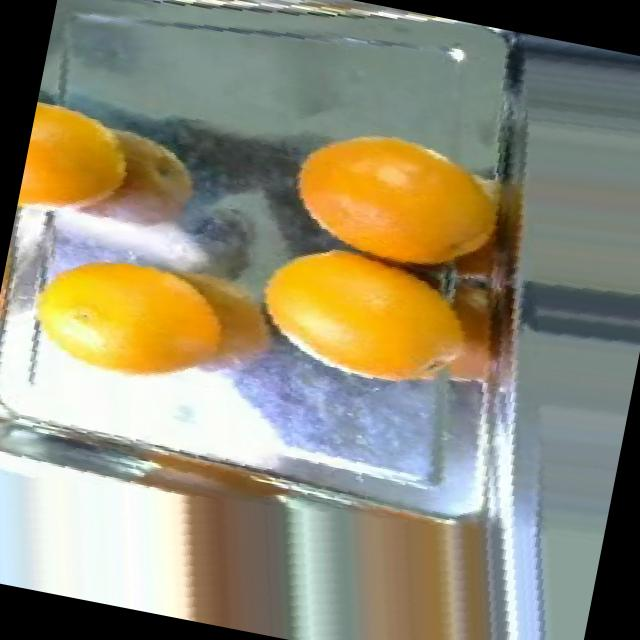Fruit: (264, 105, 486, 282), (2, 229, 222, 406), (232, 225, 454, 392)
